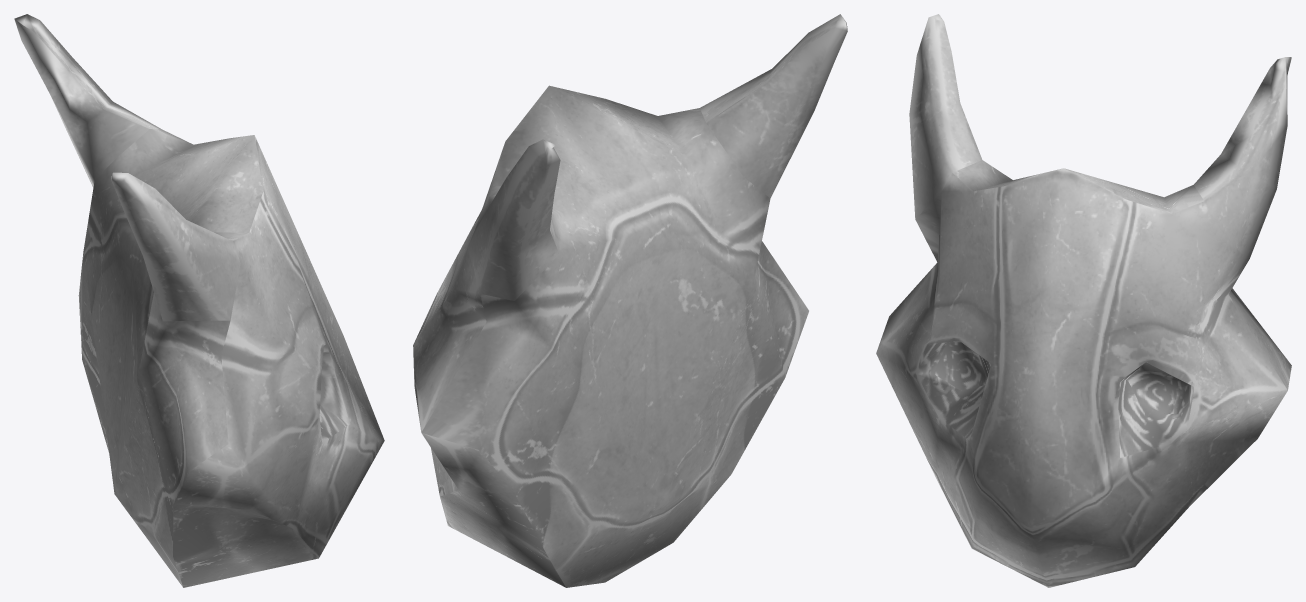
Rendered from Spawner_Minion_Head.fbx.
3 views of the same model, side by side, from view 1: azimuth 30°, elevation 25°; view 2: azimuth 150°, elevation 25°; view 3: azimuth 270°, elevation 25° (orthographic). The views are drawn at different scales.
Parts seen in each view (by area): view 1: Spawner_Minion_head; view 2: Spawner_Minion_head; view 3: Spawner_Minion_head.
Part boxes in pixels (x1,y1,x2,y2): Spawner_Minion_head: [14, 14, 384, 587]; Spawner_Minion_head: [413, 14, 847, 587]; Spawner_Minion_head: [876, 14, 1291, 587].
Size of the model in its own units: 10.1 by 14.96 by 11.88.
